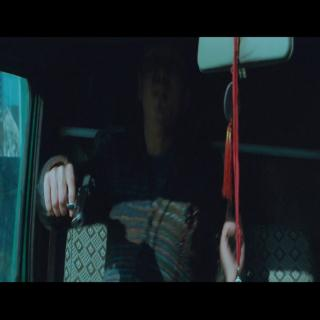gun: (42, 169, 98, 235)
